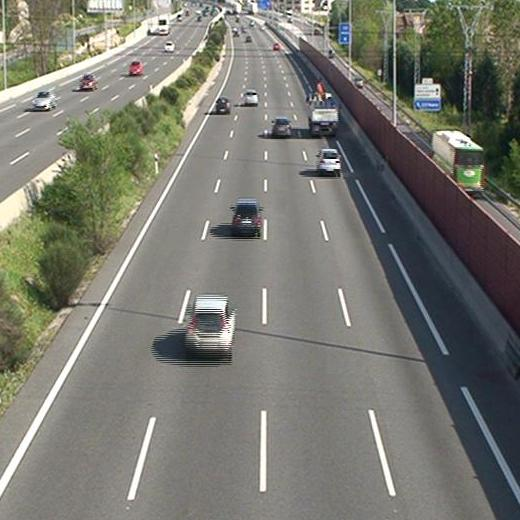car: (186, 297, 235, 351), (232, 201, 261, 232), (318, 149, 340, 173), (272, 119, 290, 136), (215, 98, 230, 112), (244, 90, 257, 105)
small-truck: (308, 92, 339, 134)
